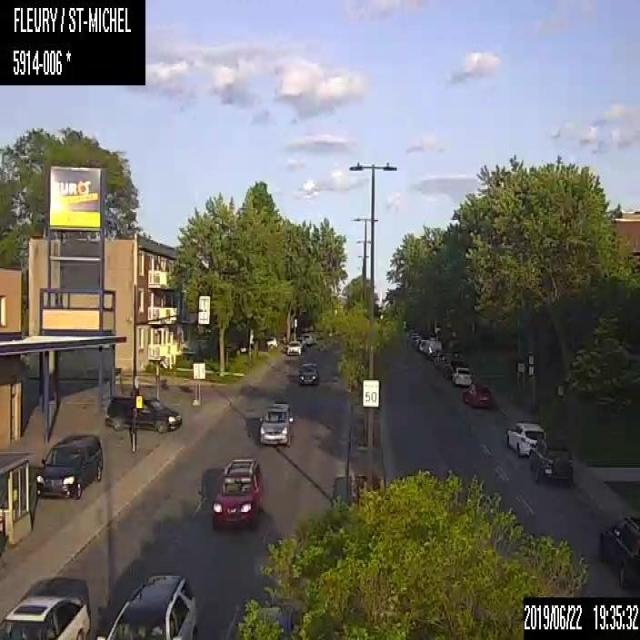vehicle: (95, 572, 196, 639), (36, 429, 104, 501), (0, 589, 92, 639), (211, 455, 263, 525), (103, 393, 181, 435), (598, 511, 639, 589), (530, 437, 573, 482), (503, 418, 546, 458), (258, 402, 294, 446), (461, 383, 494, 408), (296, 360, 319, 384), (451, 364, 472, 386), (285, 340, 302, 355), (300, 331, 314, 347)
